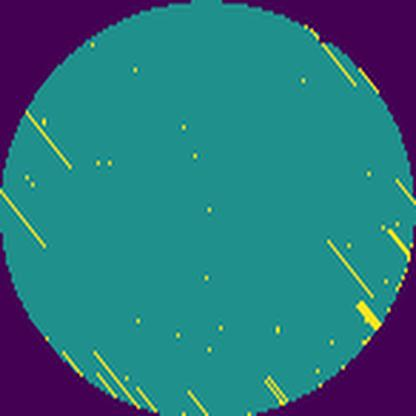Scratch: (89, 348, 160, 411), (0, 185, 52, 251), (324, 237, 376, 301), (24, 109, 77, 171), (382, 224, 412, 262), (261, 372, 291, 406), (185, 385, 212, 416)
